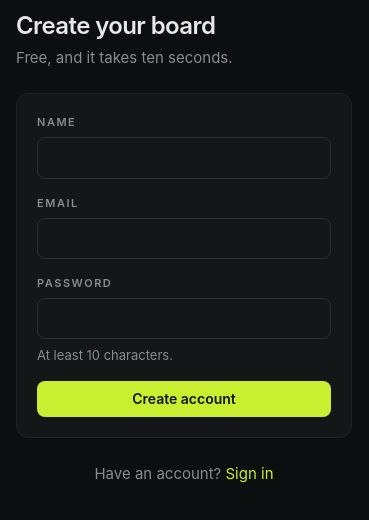
the sign-up page › says so on the form when there were too many sign-ups, and keeps what was typed
Type "Ada" into the field labelled "Name" at (184, 158), box [37, 137, 331, 179]
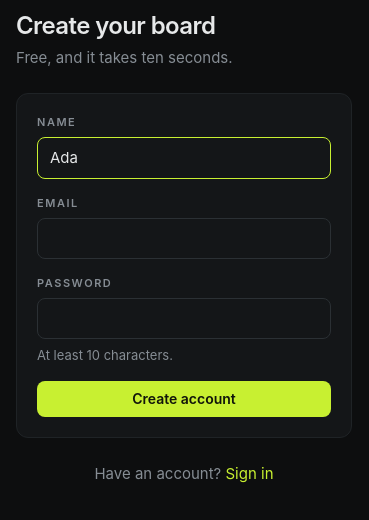
Type "ada@example.test" into the field labelled "Email" at (184, 238), box [37, 218, 331, 259]
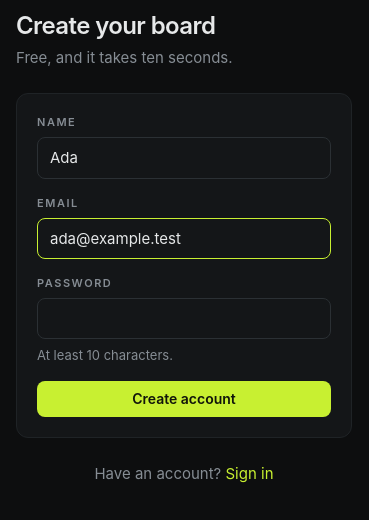
Type "correct horse battery" into the password field labelled "Password" at (184, 319), box [37, 298, 331, 339]
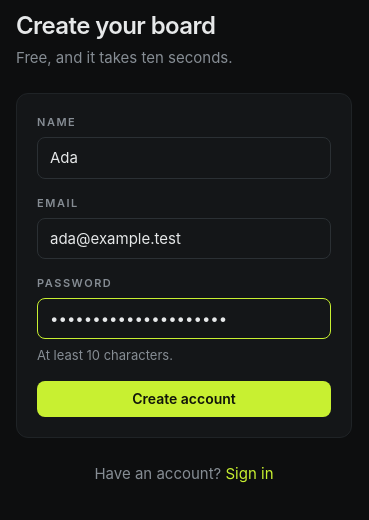
Click the button "Create account" at (184, 399), box [37, 381, 331, 417]
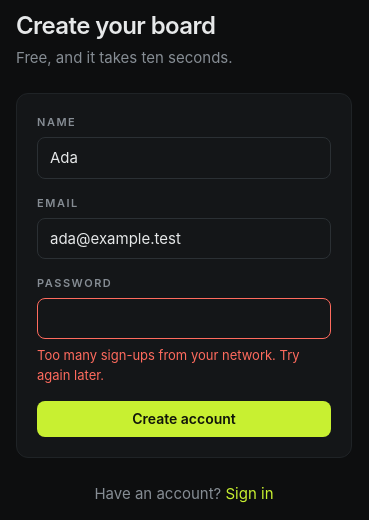
Result: the text "Too many sign-ups from your network. Try again later." is shown at [37, 345, 331, 385]
